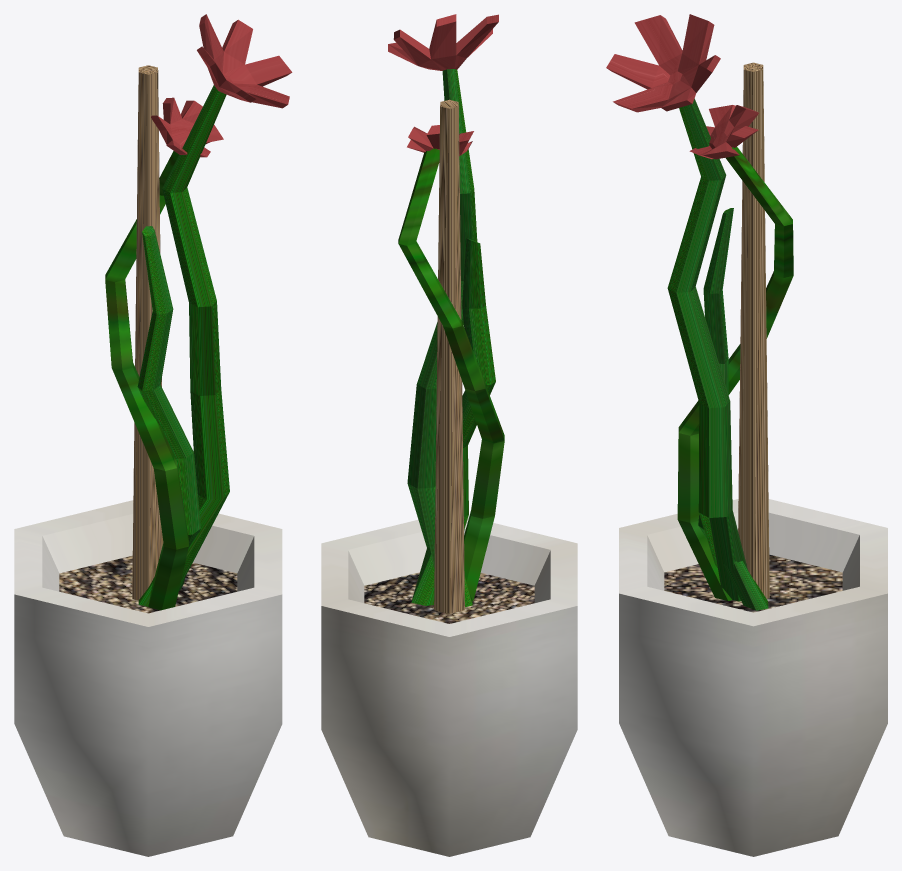
Rendered from storczyk1.FBX.
3 renders of one model, left to right at view 1: azimuth 30°, elevation 25°; view 2: azimuth 150°, elevation 25°; view 3: azimuth 270°, elevation 25°, orthographic. The views are drawn at different scales.
Visible parts, largest first — view 1: Cylinder001, Object002, Object003, Object001, Object005, Object004, Object006, Object007; view 2: Cylinder001, Object001, Object003, Object002, Object005, Object004, Object006, Object007; view 3: Cylinder001, Object002, Object001, Object003, Object006, Object004, Object005, Object007.
Part boxes in pixels (bbox=[...]): Cylinder001: bbox=[14, 500, 282, 856]; Object002: bbox=[138, 85, 229, 606]; Object003: bbox=[105, 151, 188, 610]; Object001: bbox=[132, 65, 163, 600]; Object005: bbox=[137, 226, 200, 590]; Object004: bbox=[59, 555, 237, 613]; Object006: bbox=[197, 14, 292, 108]; Object007: bbox=[151, 97, 223, 157]; Cylinder001: bbox=[321, 516, 577, 856]; Object001: bbox=[434, 99, 464, 613]; Object003: bbox=[398, 148, 504, 600]; Object002: bbox=[407, 69, 477, 607]; Object005: bbox=[411, 238, 495, 605]; Object004: bbox=[364, 572, 534, 623]; Object006: bbox=[388, 14, 498, 70]; Object007: bbox=[407, 125, 473, 155]; Cylinder001: bbox=[619, 499, 887, 856]; Object002: bbox=[667, 98, 747, 601]; Object001: bbox=[738, 62, 769, 598]; Object003: bbox=[677, 147, 793, 600]; Object006: bbox=[606, 14, 720, 112]; Object004: bbox=[664, 554, 842, 612]; Object005: bbox=[698, 208, 768, 610]; Object007: bbox=[689, 105, 758, 159].
Bounding box in the file's own units: 46.22 × 134 × 41.98.
Materials: 5 (5 with a texture image).
